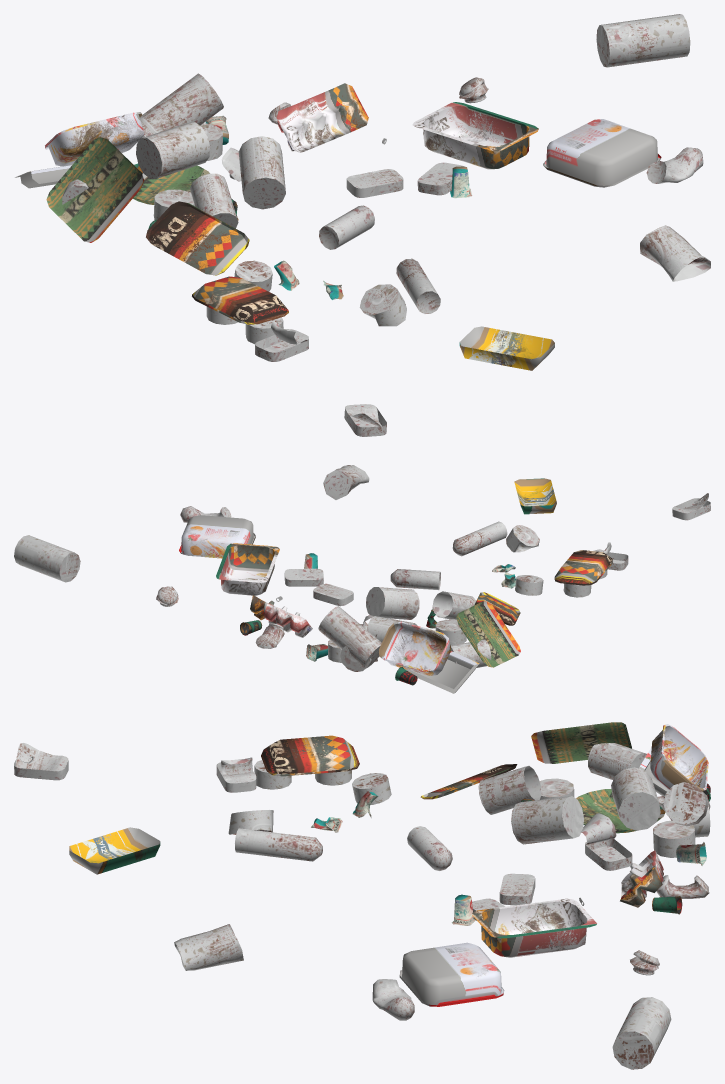
Rendered from SM_TrashSet_02_A.fbx.
3 renders of one model, top to bottom at view 1: azimuth 30°, elevation 25°; view 2: azimuth 150°, elevation 25°; view 3: azimuth 270°, elevation 25°, orthographic. The views are drawn at different scales.
Parts seen in each view (by area): view 1: SM_TrashSet_02_A; view 2: SM_TrashSet_02_A; view 3: SM_TrashSet_02_A.
Boxes of the visible parts, box(x1,y1,x2,y2) form: SM_TrashSet_02_A: box(15, 14, 710, 436); SM_TrashSet_02_A: box(14, 465, 710, 693); SM_TrashSet_02_A: box(14, 722, 710, 1069).
Size of the model in its own units: 189 by 180 by 21.25.
Materials: 2 (2 with a texture image).
